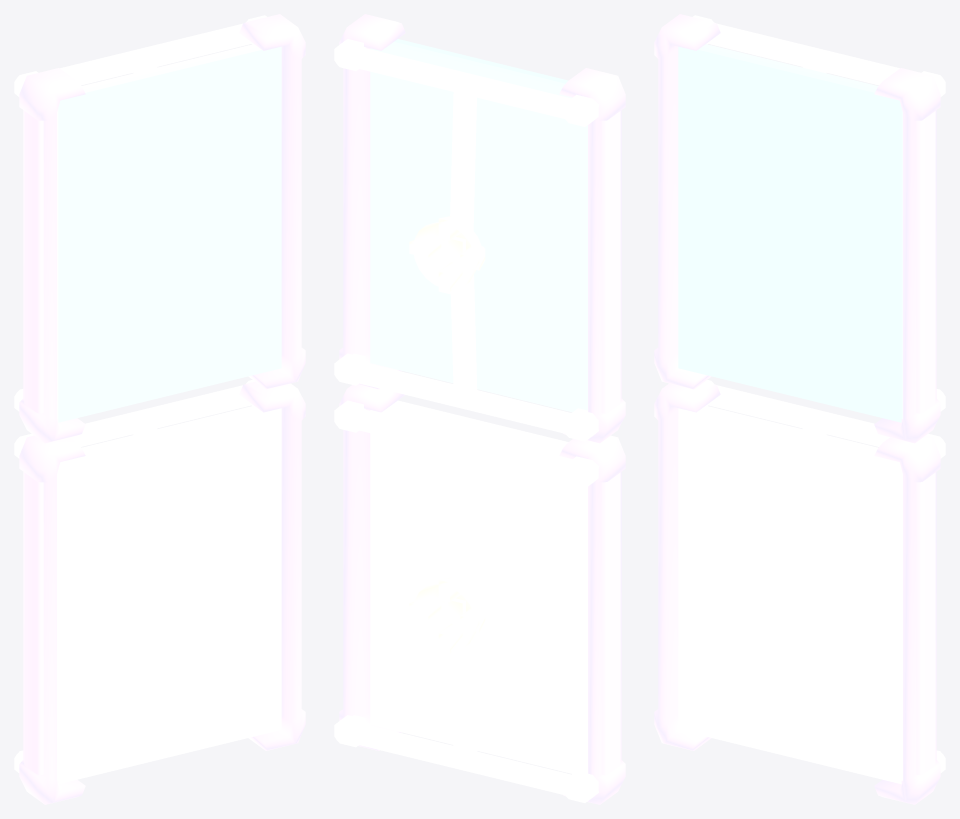
The model's file is banner_wall_double.glb.
3 renders of one model, left to right at view 1: azimuth 30°, elevation 25°; view 2: azimuth 150°, elevation 25°; view 3: azimuth 330°, elevation 25°, orthographic.
Visible parts, largest first — view 1: Banner_Wall_Double; view 2: Banner_Wall_Double; view 3: Banner_Wall_Double.
Part boxes in pixels (x1,y1,x2,y2): Banner_Wall_Double: (14,14,305,804); Banner_Wall_Double: (334,14,625,804); Banner_Wall_Double: (654,14,945,804).
Bounding box in the file's own units: 0.7297 × 1.86 × 0.2375.
